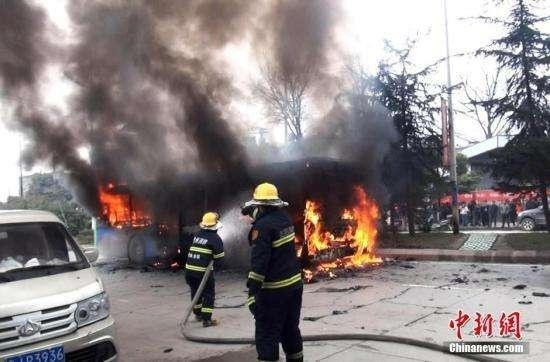fire: (298, 186, 382, 272), (95, 178, 161, 229)
